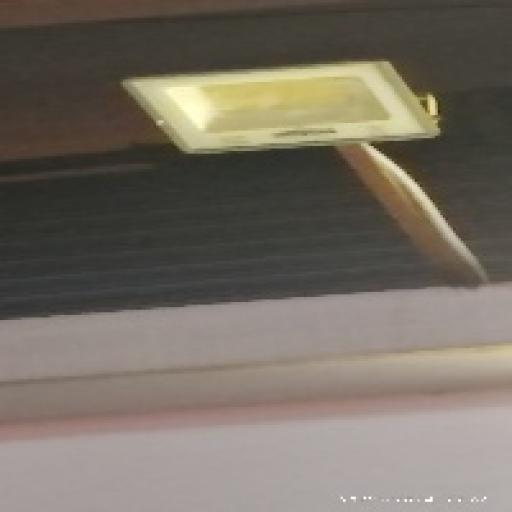Not Working: (104, 47, 459, 181)
